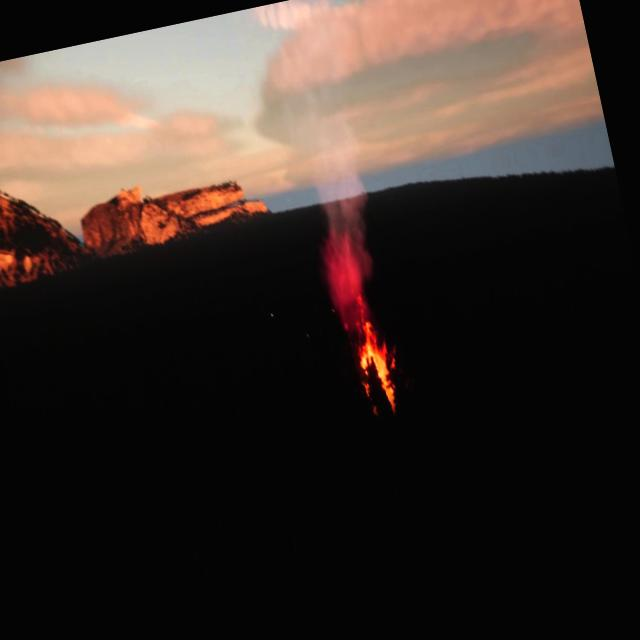fire: (353, 318, 402, 398)
smoke: (296, 138, 394, 338)
